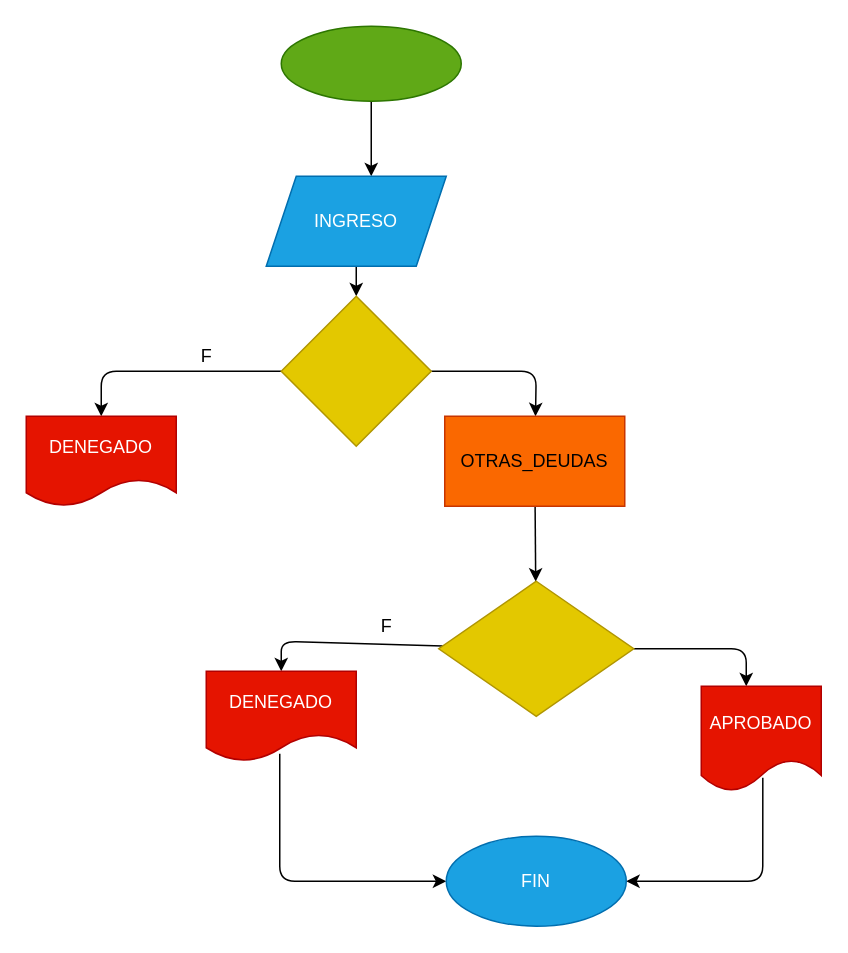
Image size: 848x953. Some labels were removed from this diagram. The shapes that lost their labels are listed below. From the top down, each one's centre as x and y in pixels, then its label:
At (x=370, y=63): "INICIO".
At (x=355, y=370): "INGRESOS > 245200".
At (x=535, y=648): "OTRAS DEUDAS ==2".
